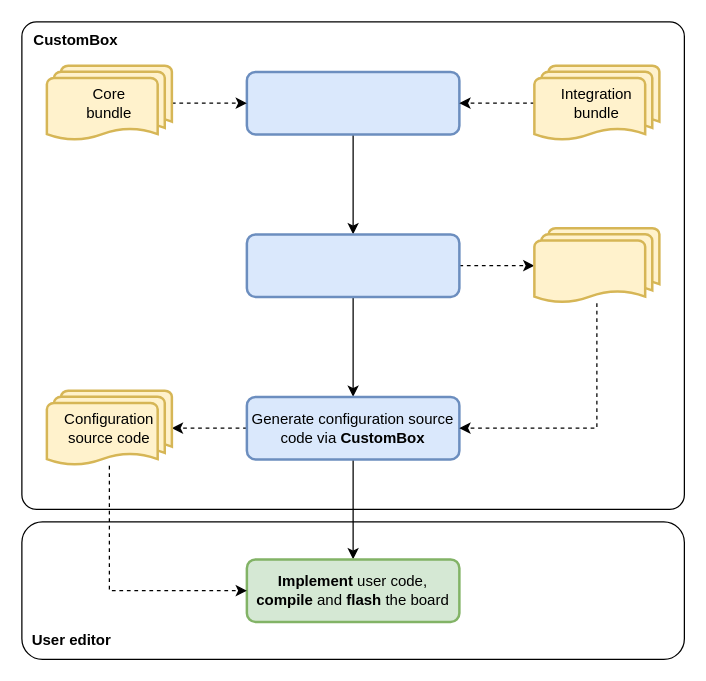
Image size: 706x681. Some labels were removed from this diagram. The shapes that lost their labels are listed below. From the top down, each one's box as (x1, y1, x2, y2) in pixels, then its label:
(245, 70, 460, 135): Download all files via CustomBox
(245, 232, 460, 298): Configure the system via CustomBox
(532, 226, 660, 304): System model JSON files
